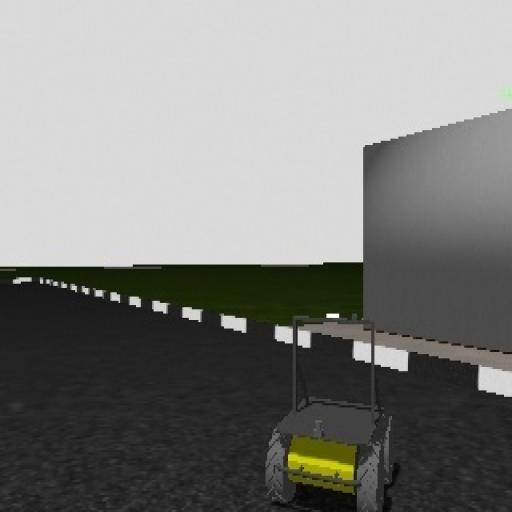huskya200: (260, 303, 406, 512)
